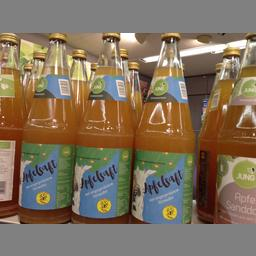juice: (130, 32, 196, 222), (70, 32, 134, 221), (18, 33, 74, 223), (214, 33, 255, 222)
